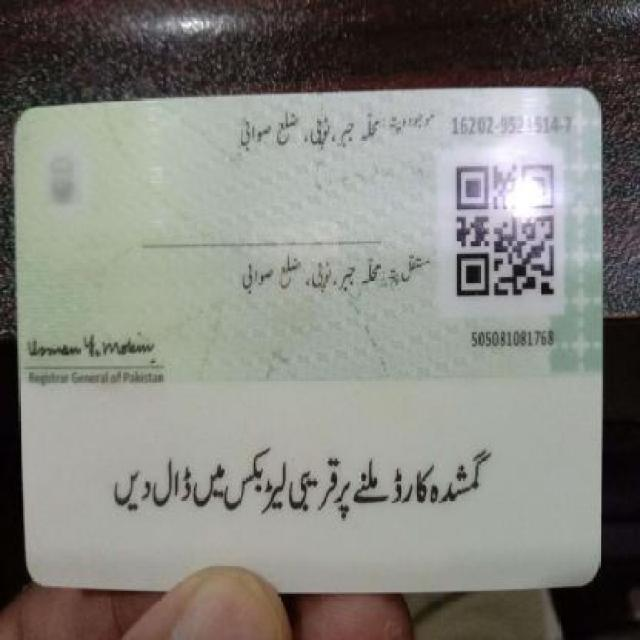Back: (9, 83, 609, 595)
